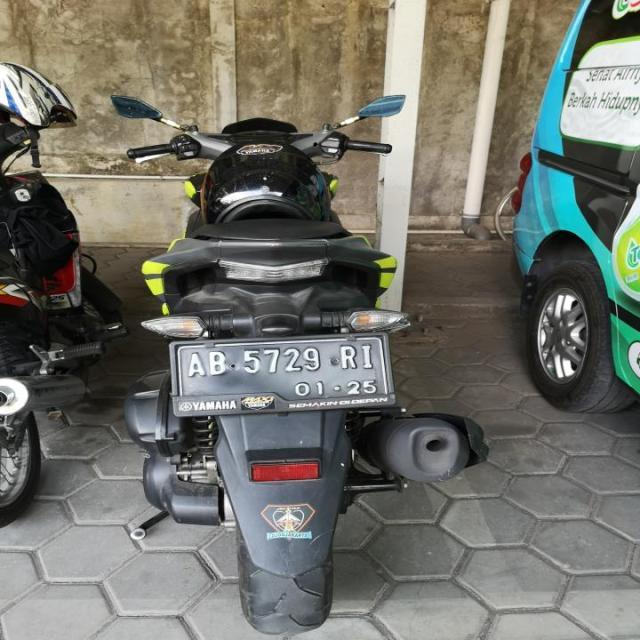License Plate: (175, 333, 390, 407)
